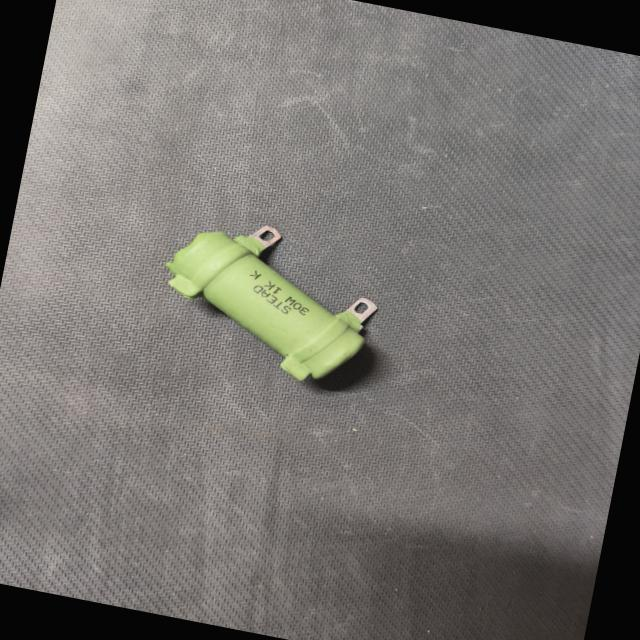resistor: (141, 201, 400, 405)
